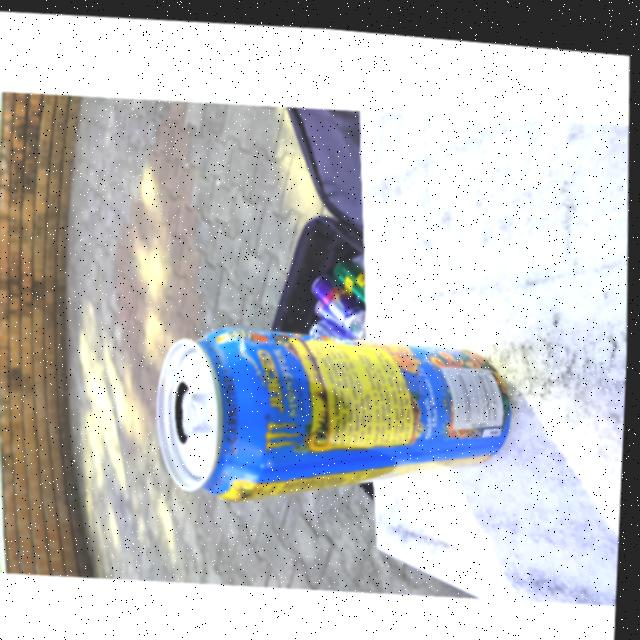Monster Mango Loco: (155, 295, 519, 524)
Redbull: (315, 264, 361, 323)
Schweppes: (336, 252, 370, 295)
